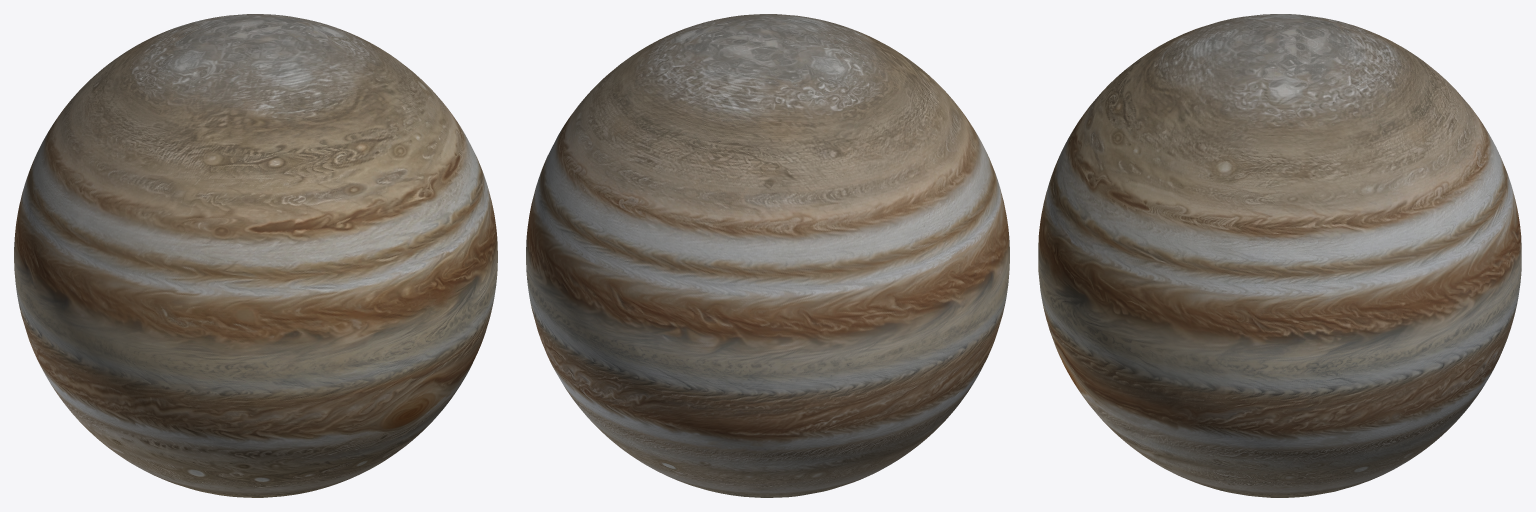
The model's file is PlanetJupiter.glb.
3 views of the same model, side by side, from view 1: azimuth 30°, elevation 25°; view 2: azimuth 150°, elevation 25°; view 3: azimuth 270°, elevation 25° (orthographic).
Visible parts, largest first — view 1: Jupiter; view 2: Jupiter; view 3: Jupiter.
Part boxes in pixels (x1,y1,x2,y2): Jupiter: (14, 14, 497, 497); Jupiter: (526, 14, 1009, 497); Jupiter: (1038, 14, 1521, 497).
Size of the model in its own units: 2 by 2 by 2.
1 material, 1 textured.
